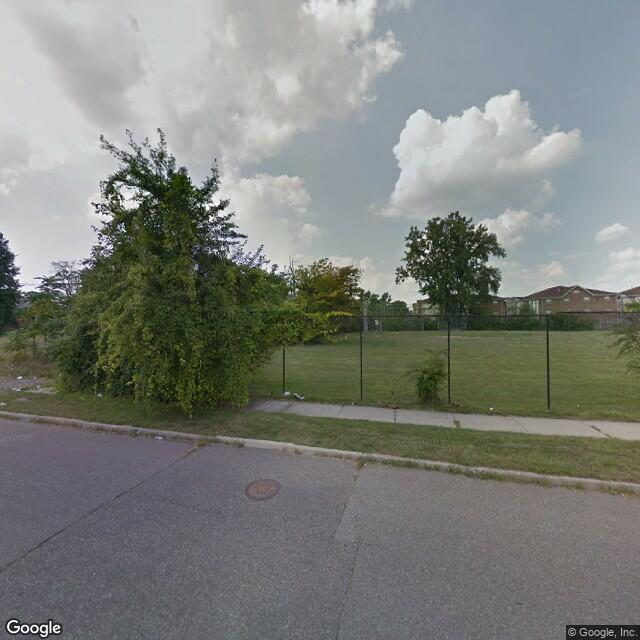litter: (294, 392, 305, 400), (152, 433, 164, 440), (96, 390, 104, 398), (486, 406, 495, 412), (11, 385, 20, 391), (284, 390, 290, 398), (16, 374, 24, 379), (35, 384, 41, 389)
